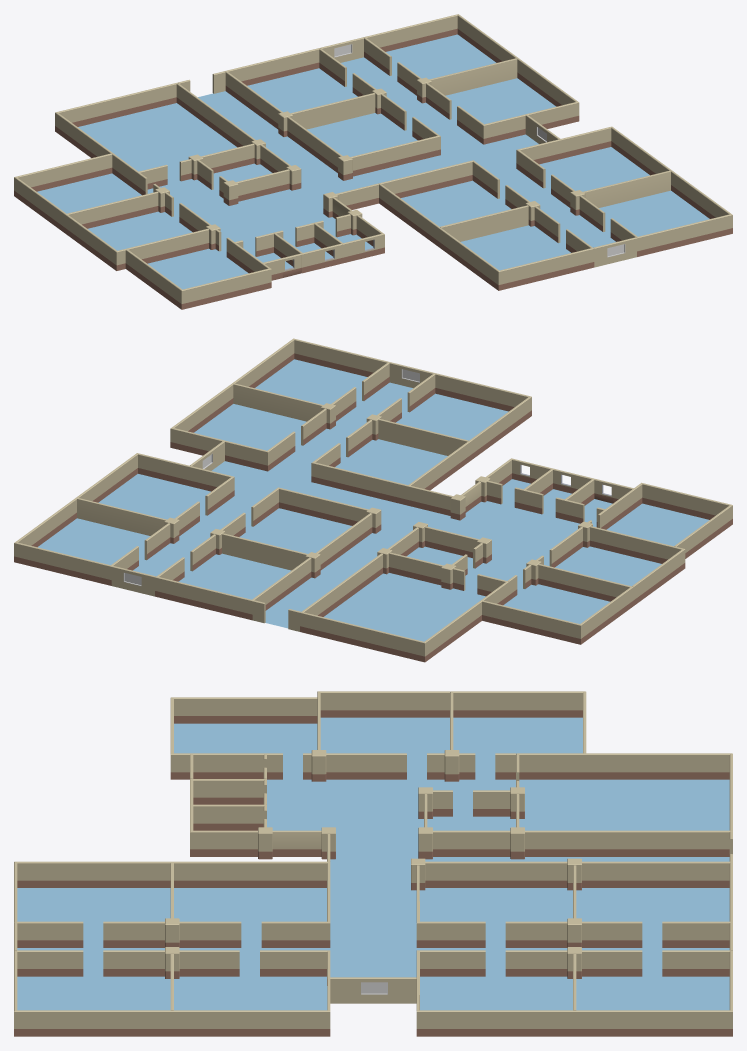
The model's file is grayboxing.fbx.
3 renders of one model, top to bottom at view 1: azimuth 30°, elevation 25°; view 2: azimuth 150°, elevation 25°; view 3: azimuth 270°, elevation 25°, orthographic. The views are drawn at different scales.
Parts seen in each view (by area): view 1: Genre.001, Genre.006, PR_wall.002, Floor.001, PR_wall.001, CR.003, CR.001, Floor.002, CR.002, Cube.372, Cube.371, Floor.004 (+12 smaller); view 2: Genre.001, Genre.006, PR_wall.002, Floor.001, PR_wall.001, CR.003, Floor.002, CR.001, CR.002, Cube.372, Cube.371, Floor.007 (+13 smaller); view 3: Genre.001, Genre.006, Floor.001, PR_wall.002, PR_wall.001, Floor.002, CR.001, CR.002, CR.008, CR.007, CR.003, CR.006 (+8 smaller).
Boxes of the visible parts, x1,y1,x2,y2 form: Genre.001: (225, 14, 732, 290); Genre.006: (247, 34, 709, 270); PR_wall.002: (55, 82, 255, 191); Floor.001: (147, 163, 335, 256); PR_wall.001: (78, 103, 236, 183); CR.003: (14, 153, 160, 233); CR.001: (125, 229, 271, 309); Floor.002: (297, 134, 538, 208); CR.002: (66, 192, 210, 270); Cube.372: (429, 58, 670, 207); Cube.371: (291, 93, 528, 241); Floor.004: (198, 91, 339, 188); Genre.001: (14, 338, 531, 620); Genre.006: (38, 359, 508, 599); PR_wall.002: (300, 552, 509, 662); Floor.001: (406, 501, 596, 593); PR_wall.001: (323, 573, 485, 641); CR.003: (482, 564, 633, 644); Floor.002: (212, 461, 454, 537); CR.001: (587, 482, 732, 558); CR.002: (536, 526, 685, 605); Cube.372: (77, 383, 323, 535); Cube.371: (222, 419, 468, 570); Floor.007: (269, 382, 412, 481); Genre.001: (14, 861, 732, 1036); Genre.006: (17, 888, 729, 1010); Floor.001: (267, 778, 515, 856); PR_wall.002: (516, 753, 732, 856); PR_wall.001: (519, 779, 729, 830); Floor.002: (328, 856, 418, 977); CR.001: (170, 697, 317, 779); CR.002: (317, 691, 449, 779); CR.008: (453, 717, 582, 778); CR.007: (320, 717, 449, 778); CR.003: (450, 691, 586, 779); CR.006: (174, 723, 317, 778).
Size of the model in its own units: 6828 by 258 by 6481.
